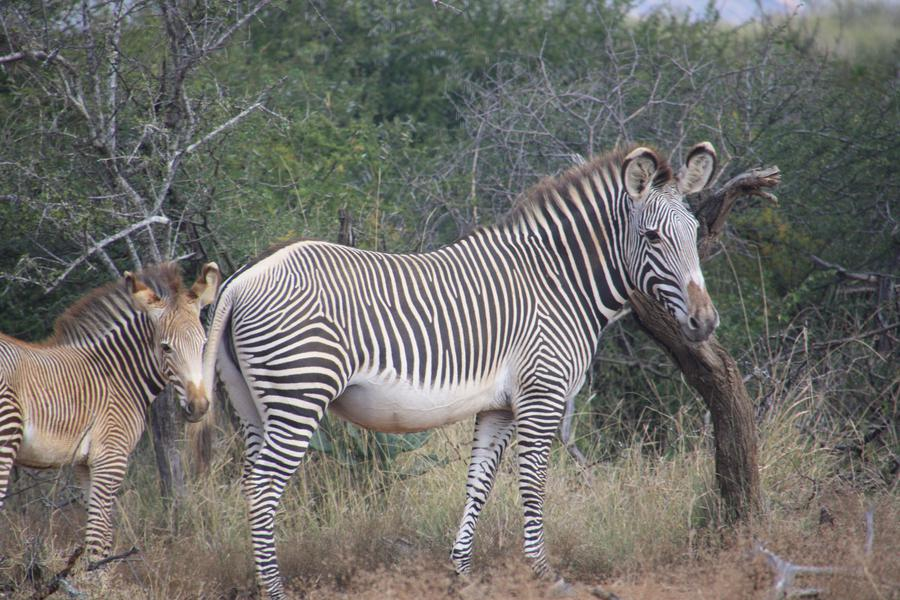zebra_grevys: (227, 237, 569, 385)
